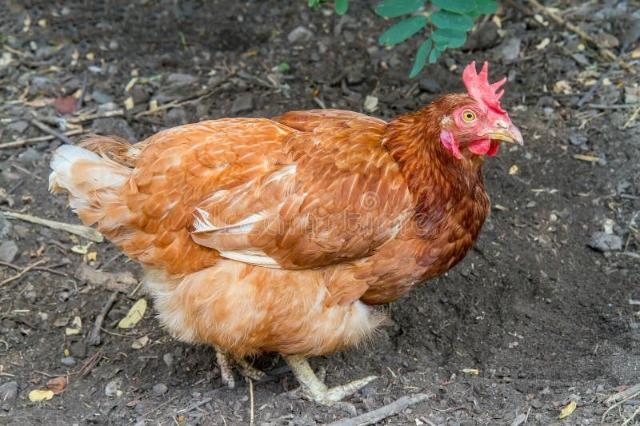Chicken: (47, 62, 523, 414)
